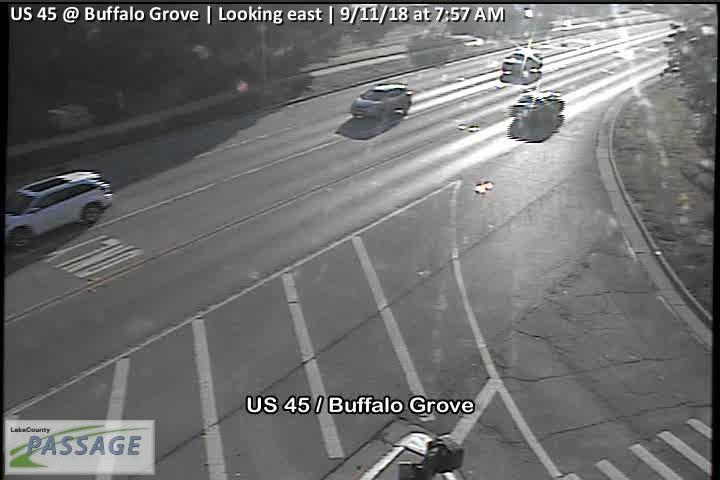SUV: (1, 168, 113, 250), (348, 81, 413, 123), (500, 47, 544, 75)
Sedan: (509, 90, 566, 123)
